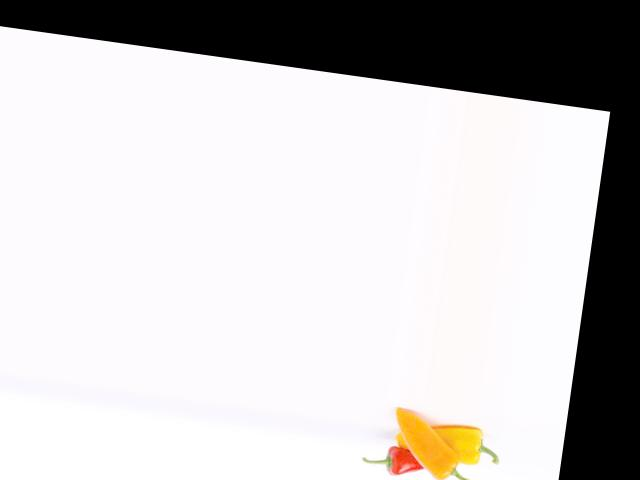bell_pepper: (418, 412, 507, 473)
